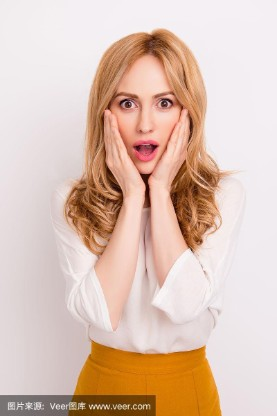张嘴: (127, 136, 159, 165)
